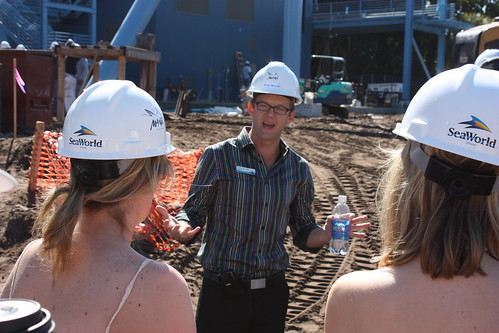person hardhat: (4, 79, 206, 333), (167, 57, 343, 333), (351, 54, 499, 333)
